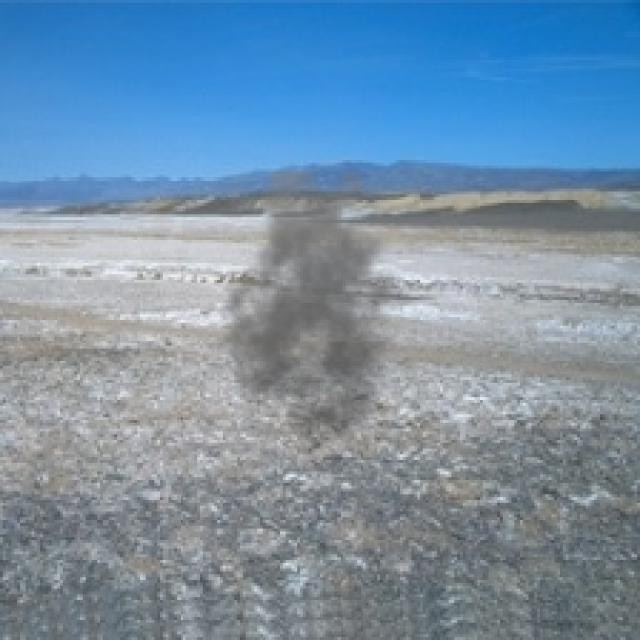Smoke: (214, 171, 420, 446)
